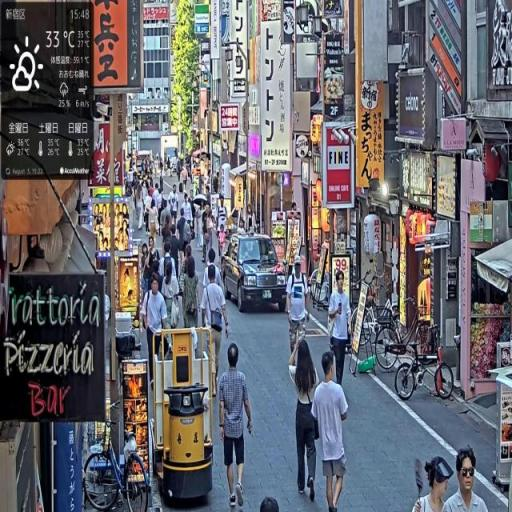person: (312, 350, 351, 512), (219, 344, 254, 512), (291, 339, 321, 506), (203, 266, 232, 398), (441, 446, 489, 512), (328, 270, 353, 392), (286, 255, 312, 365)
